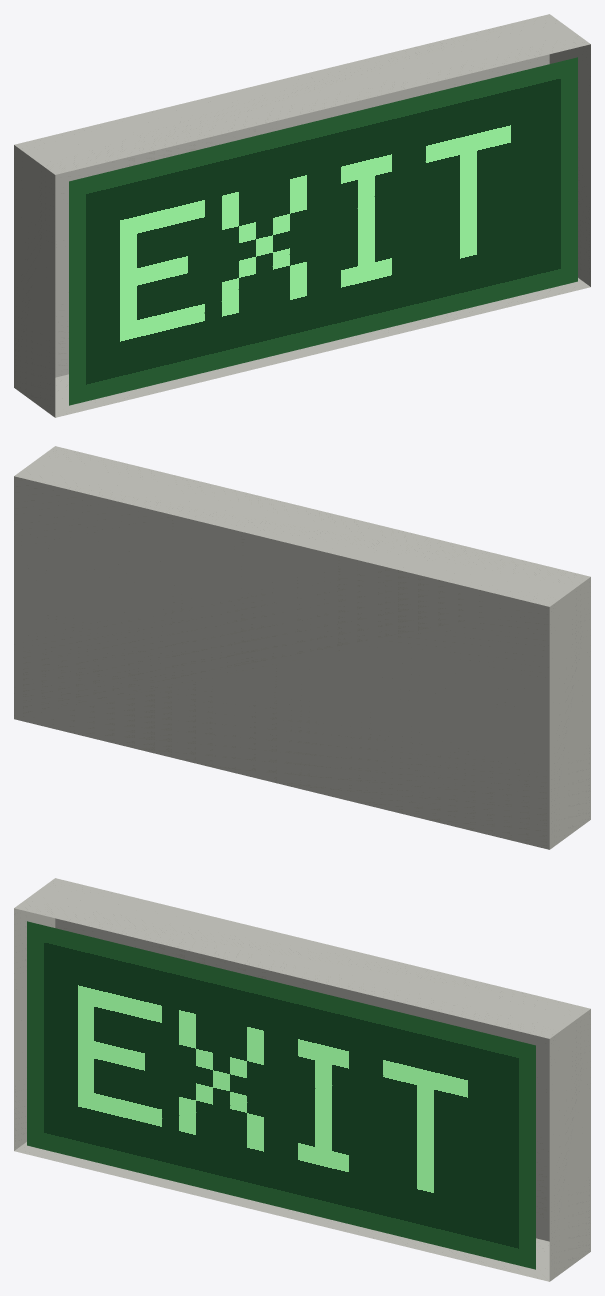
Rendered from sign_exit.glb.
3 renders of one model, top to bottom at view 1: azimuth 30°, elevation 25°; view 2: azimuth 150°, elevation 25°; view 3: azimuth 330°, elevation 25°, orthographic.
Parts seen in each view (by area): view 1: SignExit; view 2: SignExit; view 3: SignExit.
Boxes of the visible parts, box(x1,y1,x2,y2) form: SignExit: box(14, 14, 590, 417); SignExit: box(14, 446, 590, 849); SignExit: box(14, 878, 590, 1281).
Bounding box in the file's own units: 0.6 × 0.26 × 0.081.
Materials: 2 (2 with a texture image).
